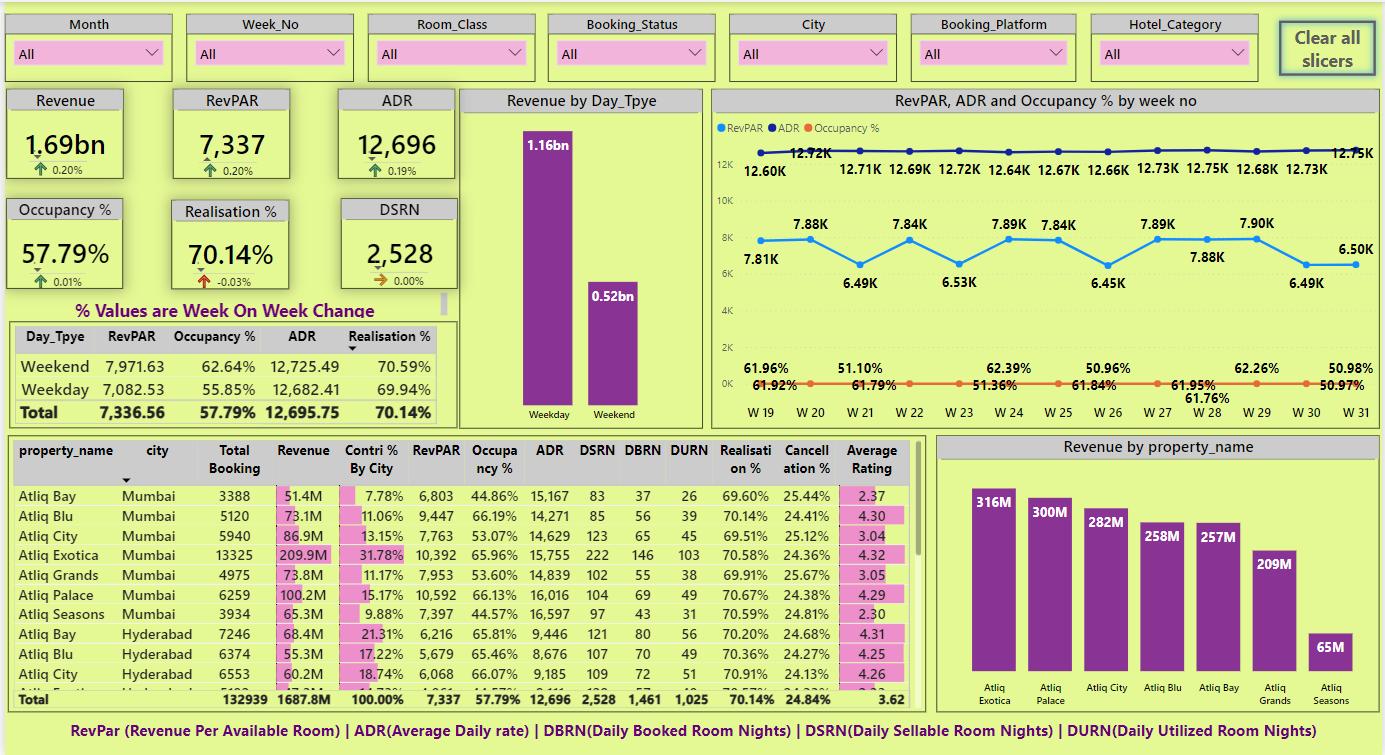

What the dashboard file says about the page in this screenshot:
{"tool":"powerbi","page":{"name":"Dashboard","canvas":[1680,920],"ordinal":1},"visuals":[{"type":"lineStackedColumnComboChart","fields":{"Category":["Dim_Hotels.property_name"],"Y":["Calculation.Revenue"]},"box":[1135.3,528,540.2,337.1],"z":0},{"type":"tableEx","fields":{"Values":["Dim_Hotels.property_name","Dim_Hotels.city","Calculation.Total Booking","Calculation.Revenue","Calculation.Contri % By City","Calculation.RevPAR","Calculation.Occupancy %","Calculation.ADR","Calculation.DSRN","Calculation.DBRN","Calculation.DURN","Calculation.Realisation %"]},"box":[4.1,528,1119,337.1],"z":1000},{"type":"card","title":"Realisation %","fields":{"Values":["Calculation.Realisation %"]},"box":[203.6,240.6,143.6,108.3],"z":2000},{"type":"columnChart","fields":{"Y":["Calculation.Revenue"],"Category":["Dim_Date.Day_Tpye"]},"box":[554.4,105.6,296.5,414.3],"z":3000},{"type":"lineChart","fields":{"Category":["Dim_Date.week no"],"Y":["Calculation.RevPAR","Calculation.ADR","Calculation.Occupancy %"]},"box":[861.1,105.6,814.4,414.3],"z":4000},{"type":"slicer","title":"Room_Class","fields":{"Values":["Dim_Rooms.room_class"]},"box":[442,14.6,203.8,82.9],"z":5000,"group":"g1"},{"type":"card","title":"Revenue","fields":{"Values":["Calculation.Revenue"]},"box":[2,105.6,142.8,109.4],"z":5000},{"type":"slicer","title":"Month","fields":{"Values":["Dim_Date.mmm yy"]},"box":[0,14.6,203.8,82.9],"z":6000,"group":"g1"},{"type":"group","id":"g1","title":"Group 2","box":[0,14.6,1527.2,82.3],"z":6000},{"type":"slicer","title":"Booking_Status","fields":{"Values":["Fact_Bookings.booking_status"]},"box":[663,14.6,203.8,82.9],"z":7000,"group":"g1"},{"type":"textbox","box":[0,865.2,1679.6,54.8],"z":7000},{"type":"slicer","title":"City","fields":{"Values":["Dim_Hotels.city"]},"box":[884,14.6,203.8,82.9],"z":8000,"group":"g1"},{"type":"textbox","box":[0,349.3,544.3,40.6],"z":8000},{"type":"slicer","title":"Booking_Platform","fields":{"Values":["Fact_Bookings.booking_platform"]},"box":[1105,14.6,201.1,82.9],"z":9000,"group":"g1"},{"type":"card","title":"DSRN","fields":{"Values":["Calculation.DSRN"]},"box":[409.5,239.3,142.1,109.7],"z":9000},{"type":"slicer","title":"Hotel_Category","fields":{"Values":["Dim_Hotels.category"]},"box":[1323.3,14.6,203.8,82.9],"z":10000,"group":"g1"},{"type":"tableEx","fields":{"Values":["Dim_Date.Day_Tpye","Calculation.RevPAR","Calculation.Occupancy %","Calculation.ADR","Calculation.Realisation %"]},"box":[6.1,389.9,546.3,130],"z":10000},{"type":"slicer","title":"Week_No","fields":{"Values":["Dim_Date.week no"]},"box":[221,14.6,203.8,82.9],"z":11000,"group":"g1"},{"type":"tableEx","fields":{"Values":["Calculation.DSRN WoW change %"]},"box":[438.7,298.5,87.3,65],"z":11000},{"type":"card","title":"Occupancy %","fields":{"Values":["Calculation.Occupancy %"]},"box":[2,239.3,142.1,109.7],"z":12000},{"type":"card","title":"RevPAR","fields":{"Values":["Calculation.RevPAR"]},"box":[204.1,105.6,142.8,109.4],"z":13000},{"type":"card","title":"ADR","fields":{"Values":["Calculation.ADR"]},"box":[406.2,105.6,142.8,109.4],"z":14000},{"type":"tableEx","fields":{"Values":["Calculation.Revenue WoW change %"]},"box":[23.8,163,101.5,64.2],"z":15000},{"type":"tableEx","fields":{"Values":["Calculation.Revpar WoW change %"]},"box":[229.7,164.4,84.1,64.2],"z":16000},{"type":"tableEx","fields":{"Values":["Calculation.ADR WoW change %"]},"box":[431.2,164.4,84.1,62.9],"z":17000},{"type":"tableEx","fields":{"Values":["Calculation.Occupancy WoW change %"]},"box":[23.8,299.5,107.3,62.9],"z":18000},{"type":"tableEx","fields":{"Values":["Calculation.Realisation WoW change %"]},"box":[222.4,299.5,95.7,62.9],"z":19000},{"type":"actionButton","title":"Clear","box":[1545.5,14.2,134,83.3],"z":19001}]}

Visuals, with their boxes in screenshot pixels (x1, y1, x2, y2), scaled from the page's 1680x920 canvas onto the 1385x755 screenshot:
lineStackedColumnComboChart - Dim_Hotels.property_name x Calculation.Revenue: left=936, top=433, right=1381, bottom=710
tableEx - Dim_Hotels.property_name x Dim_Hotels.city: left=3, top=433, right=926, bottom=710
"Realisation %" card: left=168, top=197, right=286, bottom=286
columnChart - Calculation.Revenue x Dim_Date.Day_Tpye: left=457, top=87, right=701, bottom=427
lineChart - Dim_Date.week no x Calculation.RevPAR: left=710, top=87, right=1381, bottom=427
"Room_Class" slicer: left=364, top=12, right=532, bottom=80
"Revenue" card: left=2, top=87, right=119, bottom=176
"Month" slicer: left=0, top=12, right=168, bottom=80
"Group 2" group: left=0, top=12, right=1259, bottom=80
"Booking_Status" slicer: left=547, top=12, right=715, bottom=80
textbox: left=0, top=710, right=1384, bottom=754
"City" slicer: left=729, top=12, right=897, bottom=80
textbox: left=0, top=287, right=449, bottom=320
"Booking_Platform" slicer: left=911, top=12, right=1077, bottom=80
"DSRN" card: left=338, top=196, right=455, bottom=286
"Hotel_Category" slicer: left=1091, top=12, right=1259, bottom=80
tableEx - Dim_Date.Day_Tpye x Calculation.RevPAR: left=5, top=320, right=455, bottom=427
"Week_No" slicer: left=182, top=12, right=350, bottom=80
tableEx - Calculation.DSRN WoW change %: left=362, top=245, right=434, bottom=298
"Occupancy %" card: left=2, top=196, right=119, bottom=286
"RevPAR" card: left=168, top=87, right=286, bottom=176
"ADR" card: left=335, top=87, right=453, bottom=176
tableEx - Calculation.Revenue WoW change %: left=20, top=134, right=103, bottom=186
tableEx - Calculation.Revpar WoW change %: left=189, top=135, right=259, bottom=188
tableEx - Calculation.ADR WoW change %: left=355, top=135, right=425, bottom=187
tableEx - Calculation.Occupancy WoW change %: left=20, top=246, right=108, bottom=297
tableEx - Calculation.Realisation WoW change %: left=183, top=246, right=262, bottom=297
"Clear" actionButton: left=1274, top=12, right=1384, bottom=80
